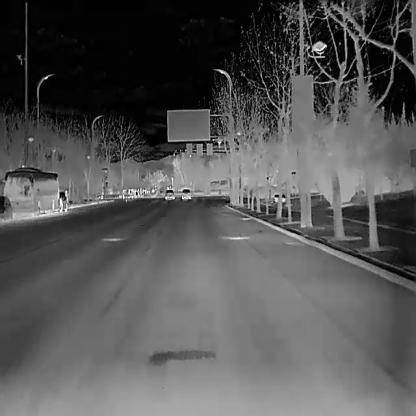bus: (0, 166, 58, 217)
car: (0, 195, 12, 220), (58, 191, 67, 212), (164, 189, 174, 199), (181, 189, 191, 199)
